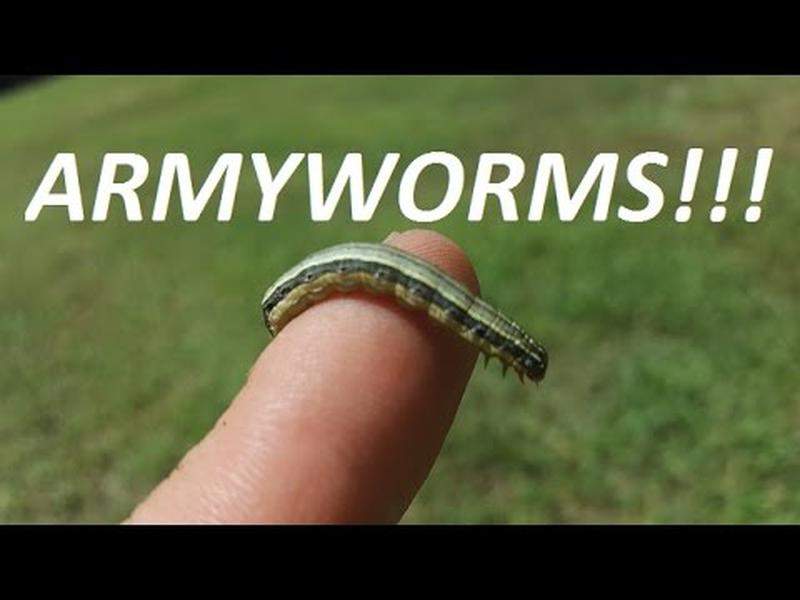Armyworms: (245, 236, 555, 404)
